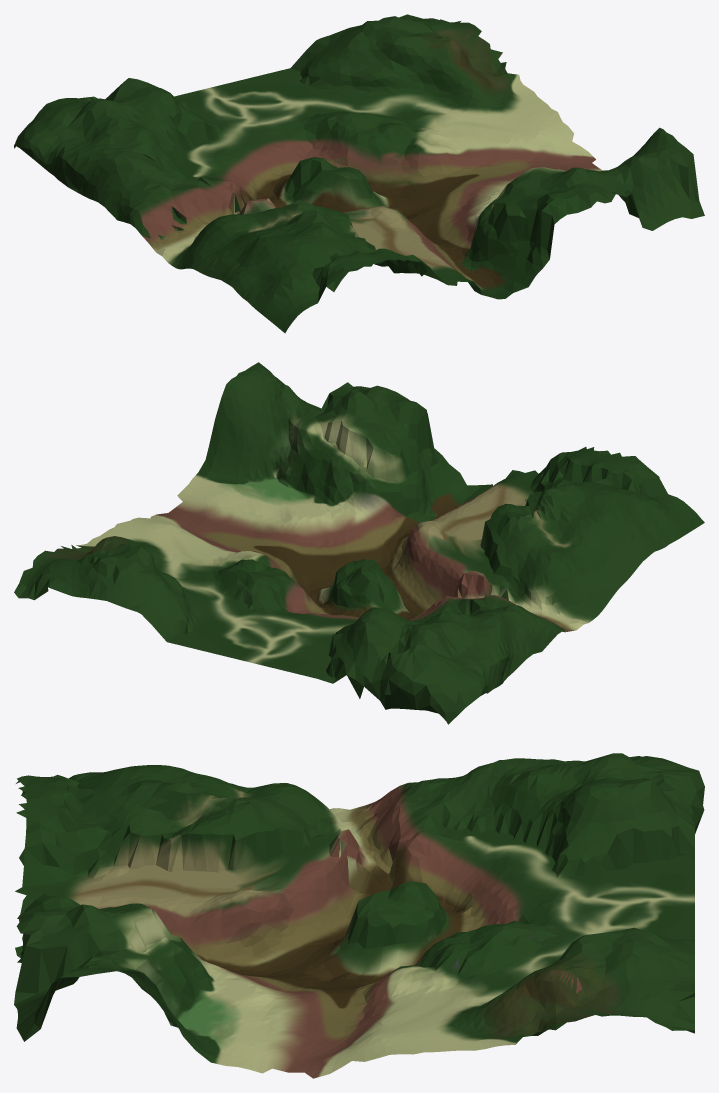
Rendered from TM11_Terrain.fbx.
3 renders of one model, top to bottom at view 1: azimuth 30°, elevation 25°; view 2: azimuth 150°, elevation 25°; view 3: azimuth 270°, elevation 25°, orthographic. The views are drawn at different scales.
Parts seen in each view (by area): view 1: TM11_StartValley, TM11_lonelyIsland, TM11_DreamBeach, TM11.Starsand, TM11.FaroffLandmass2, TM11_FaroffLandmass; view 2: TM11_StartValley, TM11_DreamBeach, TM11_FaroffLandmass, TM11_lonelyIsland, TM11.FaroffLandmass2, TM11.Starsand; view 3: TM11_StartValley, TM11_lonelyIsland, TM11_DreamBeach, TM11_FaroffLandmass, TM11.Starsand, TM11.FaroffLandmass2.
Boxes of the visible parts, x1,y1,x2,y2 form: TM11_StartValley: (14,14,473,243); TM11_lonelyIsland: (219,111,509,250); TM11_DreamBeach: (445,127,704,298); TM11.Starsand: (408,14,595,171); TM11.FaroffLandmass2: (233,212,504,333); TM11_FaroffLandmass: (149,198,435,287); TM11_StartValley: (48,536,569,724); TM11_DreamBeach: (168,362,483,545); TM11_FaroffLandmass: (402,488,654,631); TM11_lonelyIsland: (227,519,484,619); TM11.FaroffLandmass2: (436,447,704,551); TM11.Starsand: (14,513,257,600); TM11_StartValley: (354,753,704,998); TM11_lonelyIsland: (196,829,533,1019); TM11_DreamBeach: (14,893,345,1073); TM11_FaroffLandmass: (154,765,374,955); TM11.Starsand: (301,958,694,1078); TM11.FaroffLandmass2: (15,765,197,956).
Size of the model in its own units: 32118 by 6777 by 33276.
1 material, 1 textured.
